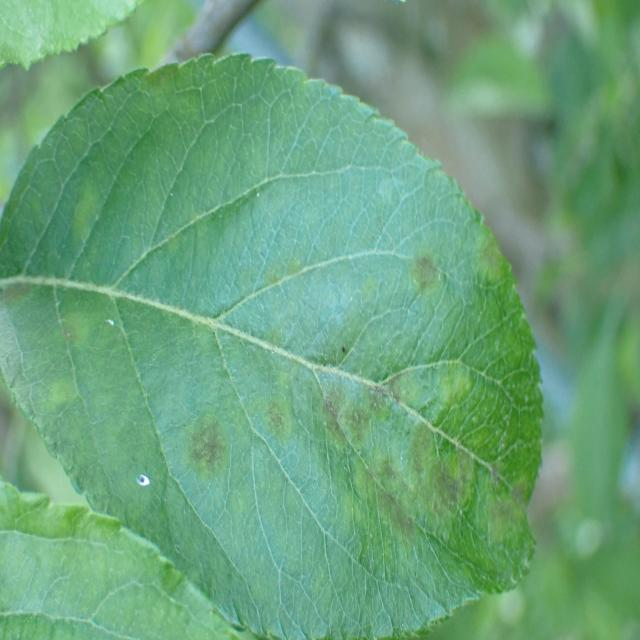scab: (60, 194, 548, 626)
